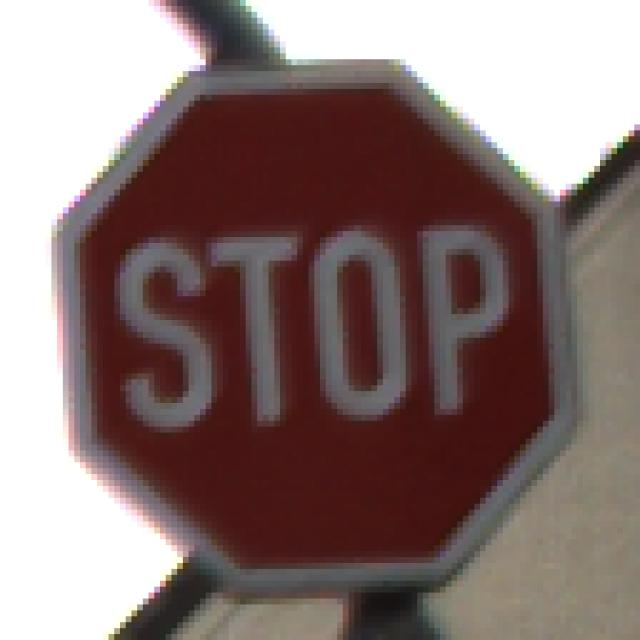STOP: (52, 54, 584, 588)
